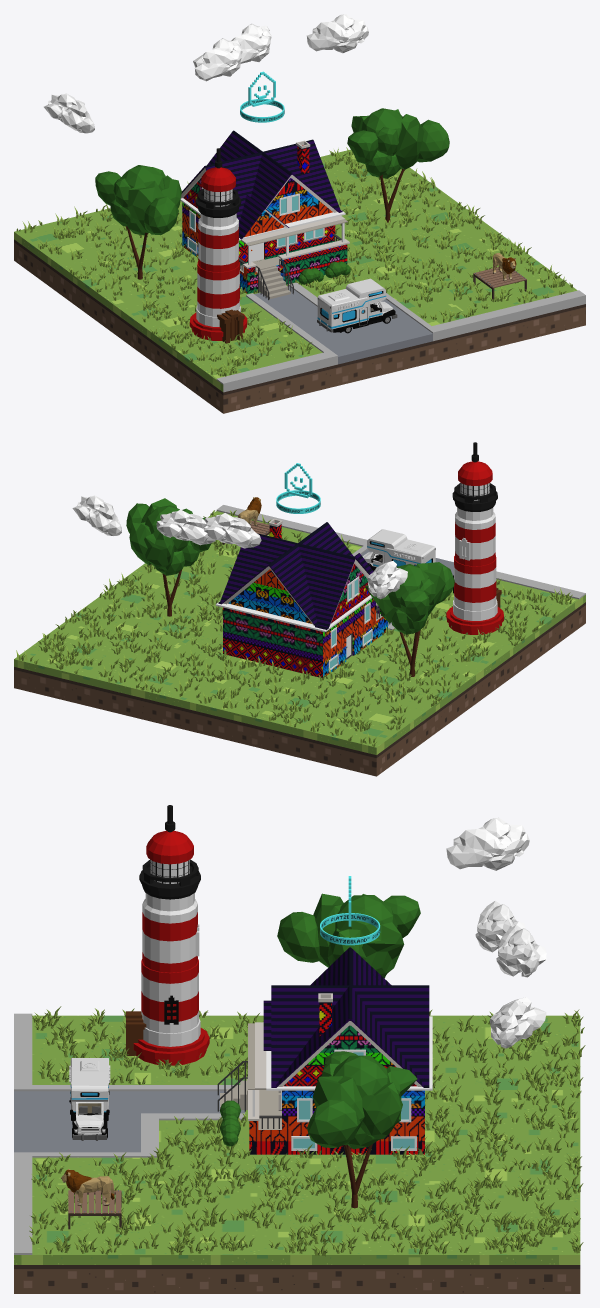
3 views of the same model, one above another, from view 1: azimuth 30°, elevation 25°; view 2: azimuth 150°, elevation 25°; view 3: azimuth 270°, elevation 25° (orthographic). The views are drawn at different scales.
Visible parts, largest first — view 1: Cube.006, Circle.012_Grass_0.192, Cube.966, OBJRANDOM_LIGHTHOUSE, Cube.007, tree, tree.001, VEHICLES_CAMPER, TYPE_PREMIUM, Cube.009; view 2: Cube.006, Cube.966, Circle.012_Grass_0.192, OBJRANDOM_LIGHTHOUSE, Cube.007, tree.001, tree, VEHICLES_CAMPER, TYPE_PREMIUM; view 3: Cube.006, Circle.012_Grass_0.192, Cube.966, OBJRANDOM_LIGHTHOUSE, tree, Cube.007, tree.001, VEHICLES_CAMPER, Cube.009, TYPE_PREMIUM, ANIMAL_LEON.
Boxes of the visible parts, bbox=[...] form: Cube.006: bbox=[14, 149, 585, 413]; Circle.012_Grass_0.192: bbox=[16, 147, 573, 376]; Cube.966: bbox=[180, 130, 349, 300]; OBJRANDOM_LIGHTHOUSE: bbox=[189, 148, 247, 343]; Cube.007: bbox=[44, 14, 368, 133]; tree: bbox=[347, 108, 449, 222]; tree.001: bbox=[95, 165, 181, 279]; VEHICLES_CAMPER: bbox=[317, 278, 397, 333]; TYPE_PREMIUM: bbox=[240, 71, 284, 122]; Cube.009: bbox=[473, 267, 526, 299]; Cube.006: bbox=[14, 505, 585, 776]; Cube.966: bbox=[215, 519, 387, 678]; Circle.012_Grass_0.192: bbox=[16, 510, 572, 746]; OBJRANDOM_LIGHTHOUSE: bbox=[446, 442, 503, 634]; Cube.007: bbox=[72, 495, 407, 599]; tree.001: bbox=[365, 562, 454, 676]; tree: bbox=[126, 498, 211, 616]; VEHICLES_CAMPER: bbox=[362, 529, 435, 571]; TYPE_PREMIUM: bbox=[276, 463, 320, 513]; Cube.006: bbox=[14, 1013, 580, 1293]; Circle.012_Grass_0.192: bbox=[29, 1006, 585, 1256]; Cube.966: bbox=[217, 947, 432, 1154]; OBJRANDOM_LIGHTHOUSE: bbox=[126, 805, 209, 1065]; tree: bbox=[307, 1051, 417, 1208]; Cube.007: bbox=[446, 817, 546, 1048]; tree.001: bbox=[277, 893, 420, 978]; VEHICLES_CAMPER: bbox=[69, 1058, 110, 1140]; Cube.009: bbox=[68, 1190, 121, 1229]; TYPE_PREMIUM: bbox=[320, 876, 380, 945]; ANIMAL_LEON: bbox=[61, 1169, 114, 1205].
Bounding box in the file's own units: 4071 × 2304 × 4040.
Materials: 45 (8 with a texture image).
